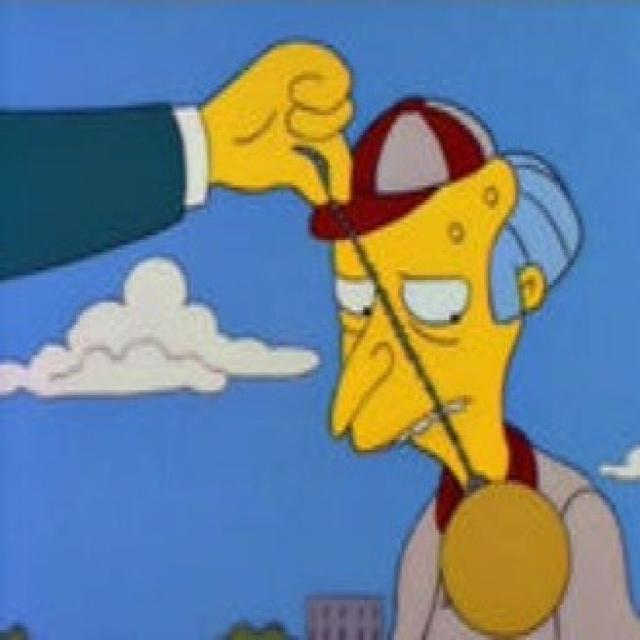Charles Montgomery Burns: (327, 148, 590, 482)
